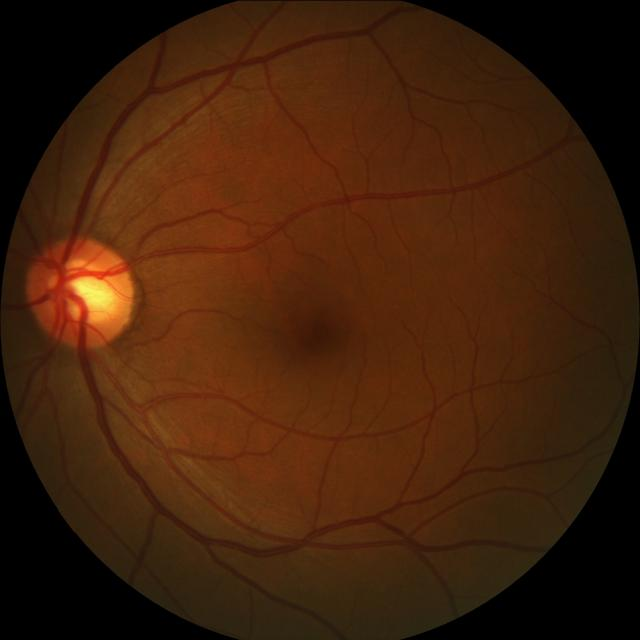OC: (53, 258, 116, 323)
OD: (30, 237, 137, 346)
